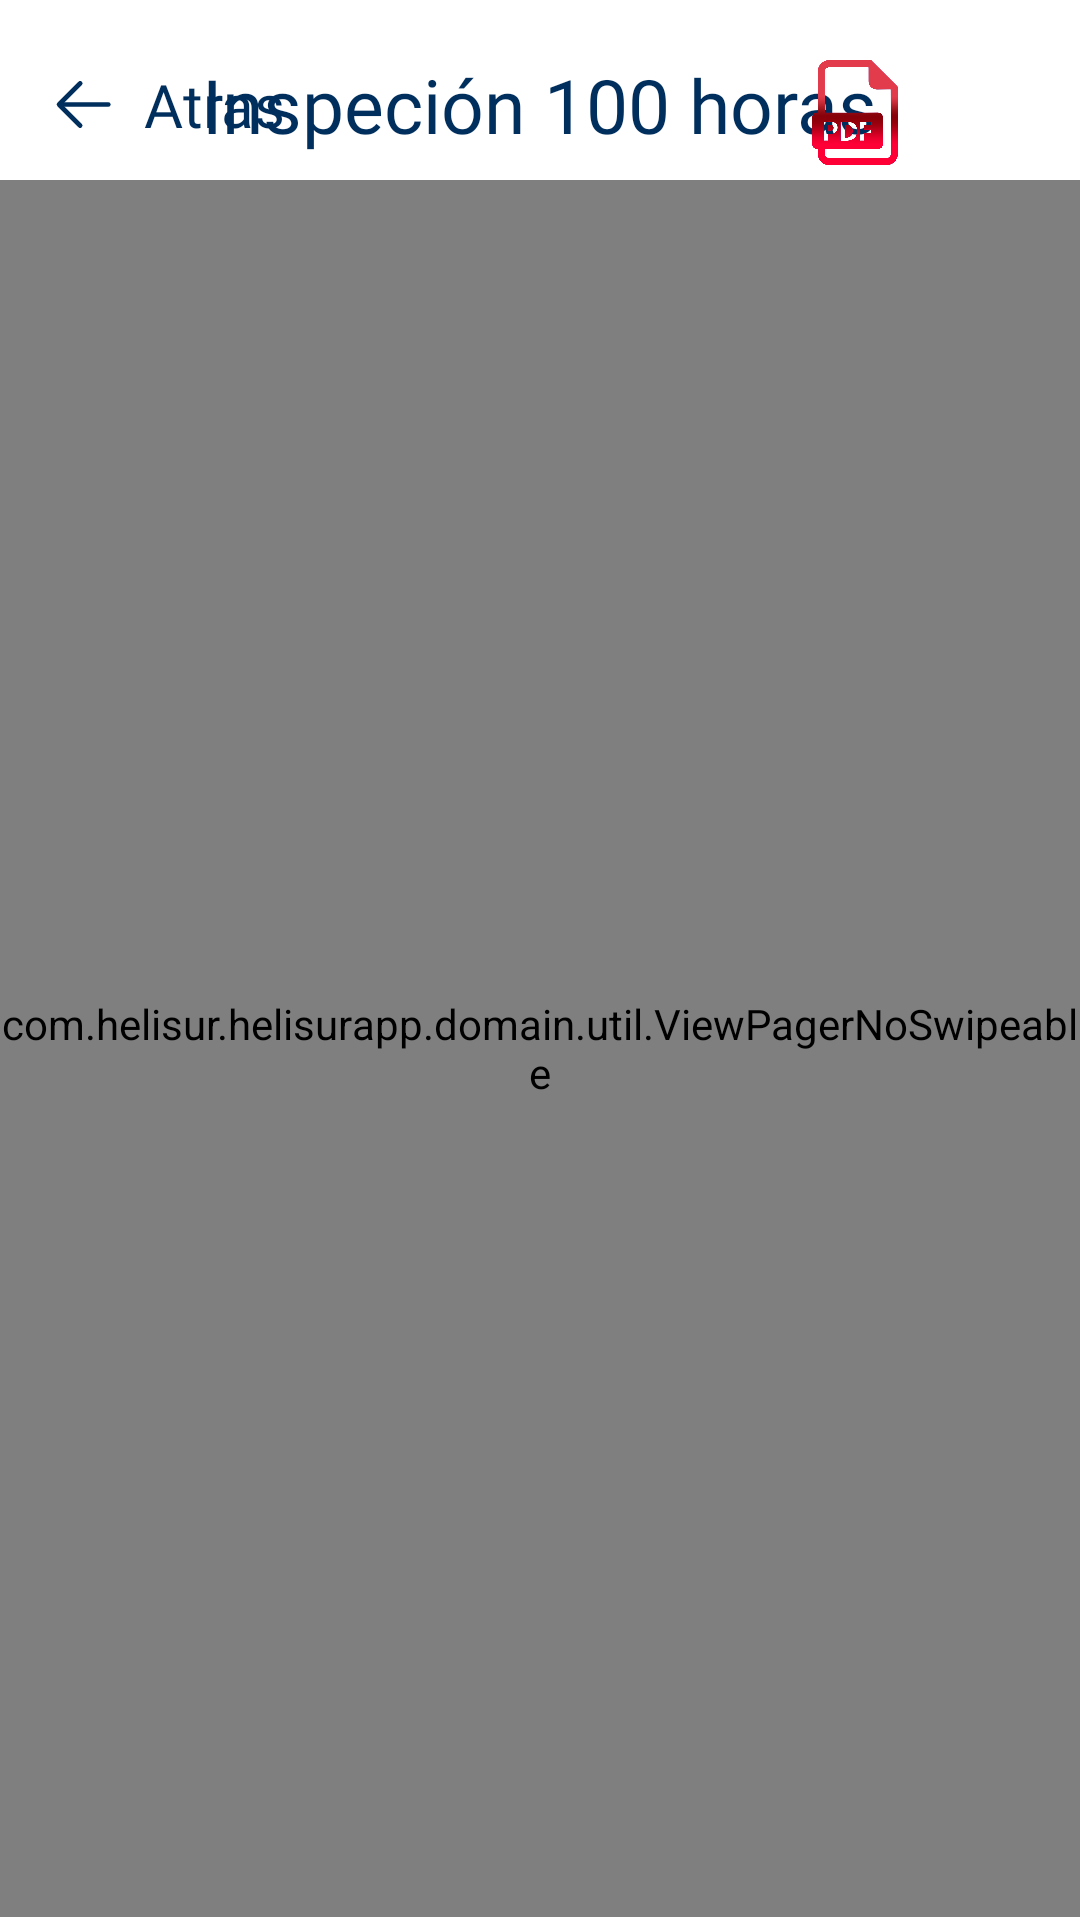

Icon click points for this 1080px×1920px phone screenshot, format (x,y):
Regresar: (83,104)
